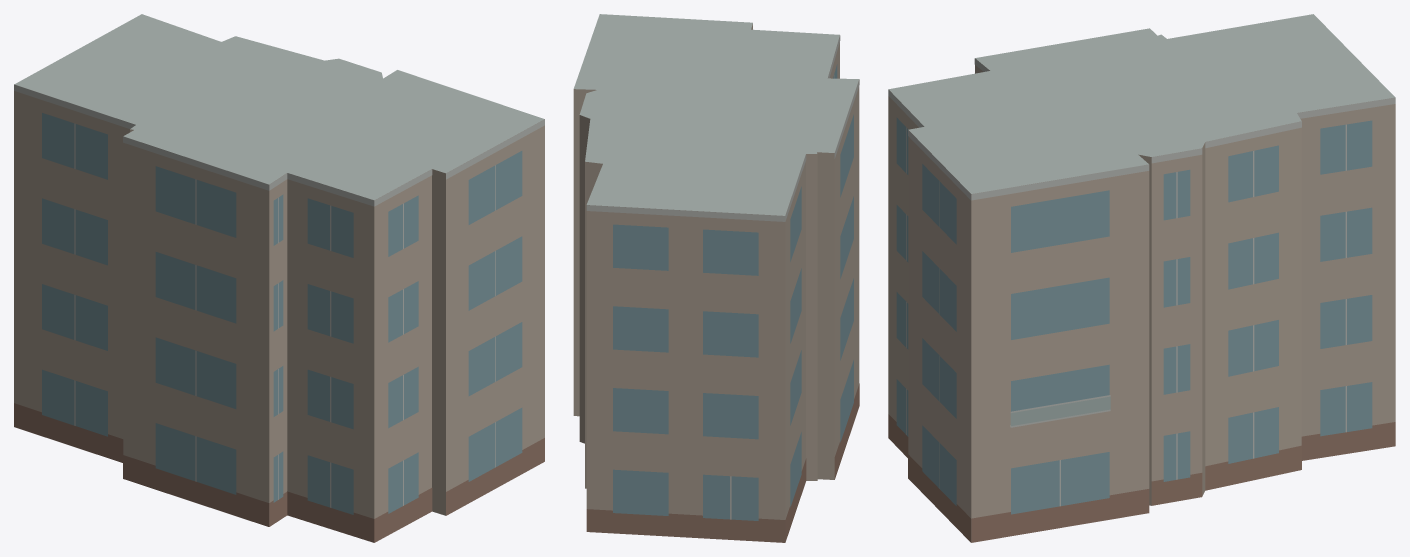
Rendered from survey-upis-32815397.glb.
The picture shows the model from 3 angles, left to right: view 1: azimuth 30°, elevation 25°; view 2: azimuth 150°, elevation 25°; view 3: azimuth 270°, elevation 25°; orthographic projection. The views are drawn at different scales.
Visible parts, largest first — view 1: survey-upis-32815397.tmp; view 2: survey-upis-32815397.tmp; view 3: survey-upis-32815397.tmp.
Boxes of the visible parts, <box> form: survey-upis-32815397.tmp: <box>14,14,544,542</box>; survey-upis-32815397.tmp: <box>573,14,859,542</box>; survey-upis-32815397.tmp: <box>888,14,1395,542</box>.
Bounding box in the file's own units: 14.69 × 13.25 × 17.47.
